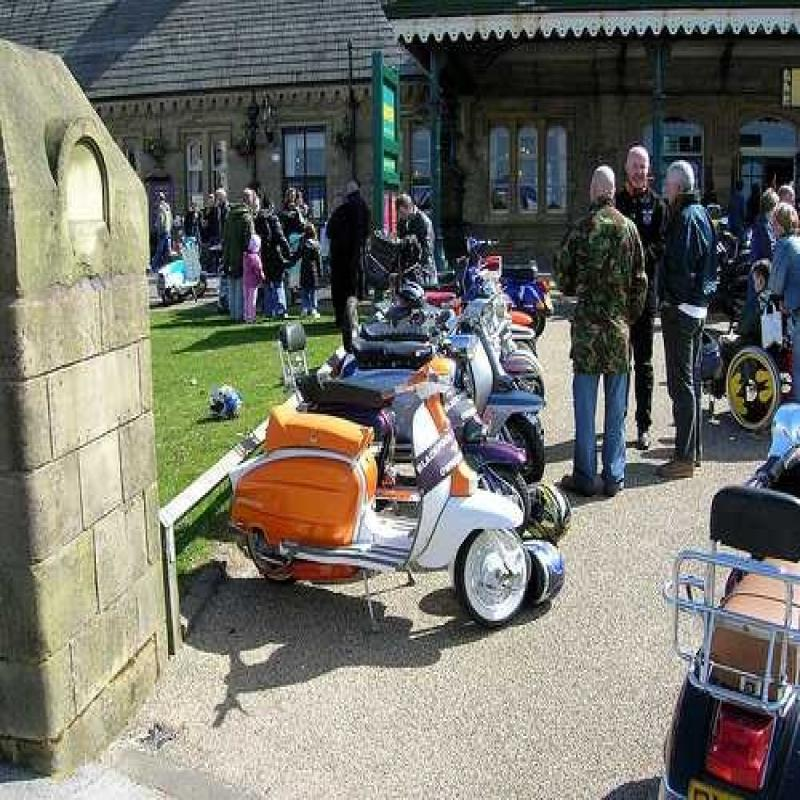bike: (247, 367, 531, 629)
